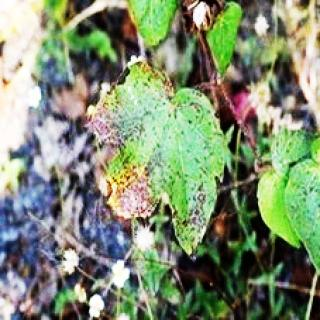leaf spot: (88, 59, 226, 261)
